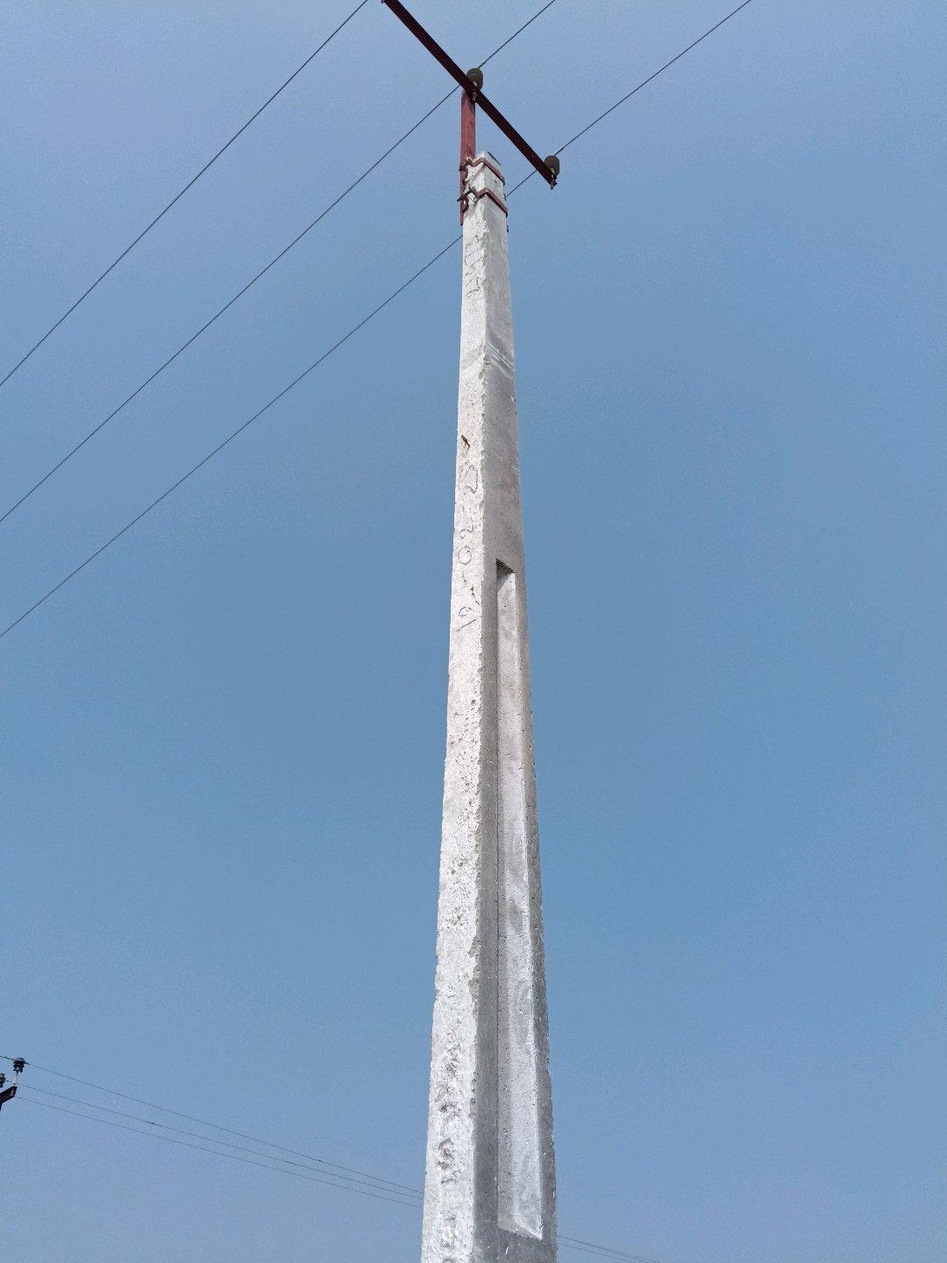{"0" "insulator", "1" "pole", "2" "crossarm", "3" "conductor", "4" "street_: (381, 0, 559, 1262), (317, 341, 342, 364), (599, 119, 602, 122)
